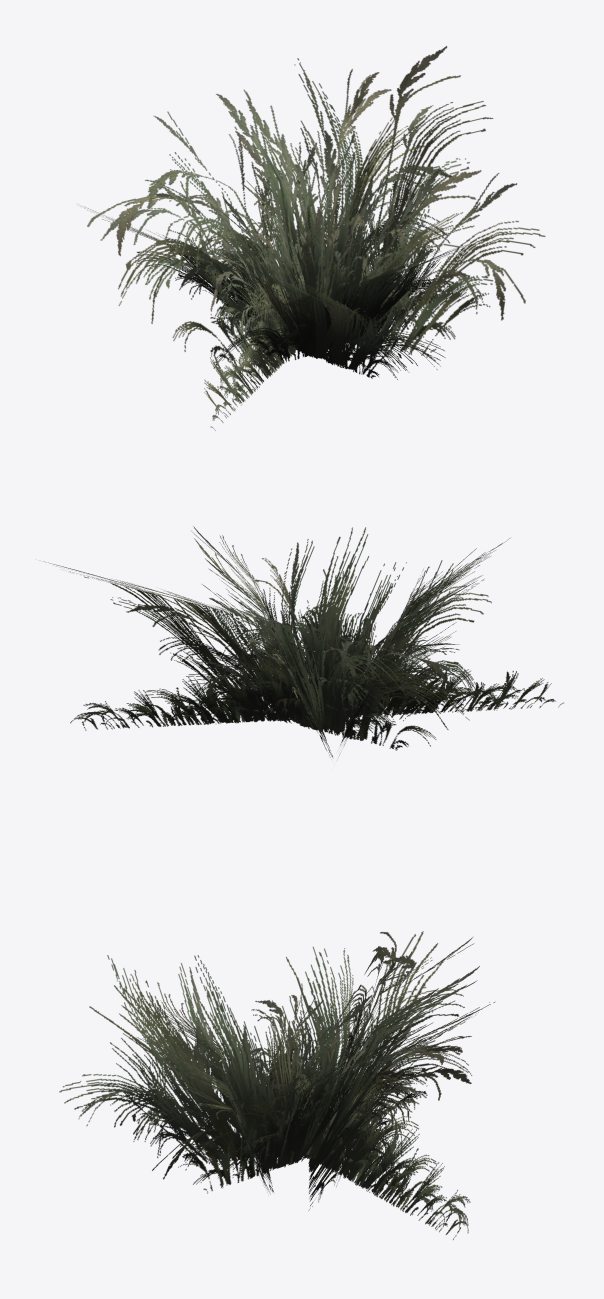
File: Grass_A.glb
3 renders of one model, top to bottom at view 1: azimuth 30°, elevation 25°; view 2: azimuth 150°, elevation 25°; view 3: azimuth 270°, elevation 25°, orthographic. The views are drawn at different scales.
Visible parts, largest first — view 1: A_LOD0; view 2: A_LOD0; view 3: A_LOD0.
Part boxes in pixels (left/top/right/bottom): A_LOD0: left=84, top=46, right=545, bottom=430; A_LOD0: left=44, top=526, right=563, bottom=759; A_LOD0: left=59, top=931, right=495, bottom=1239.
Size of what is drawn, in the model's own units: 1.25 by 0.5355 by 1.26.
Materials: 1 (1 with a texture image).
